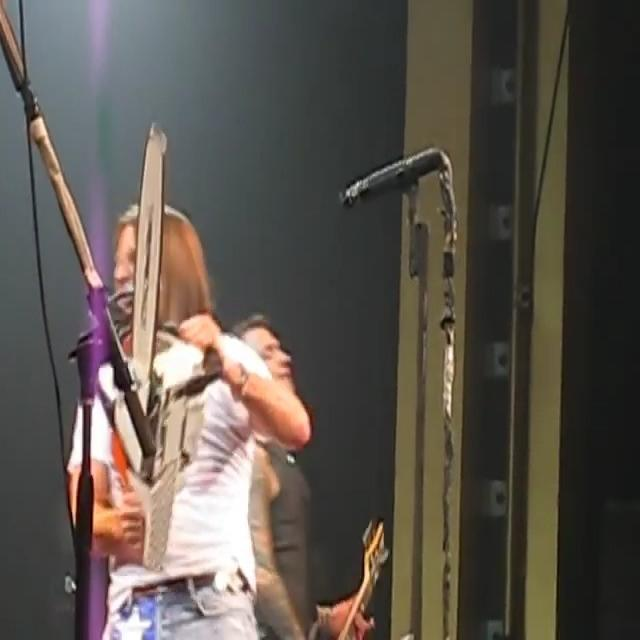Chainsaw: (74, 122, 200, 562)
